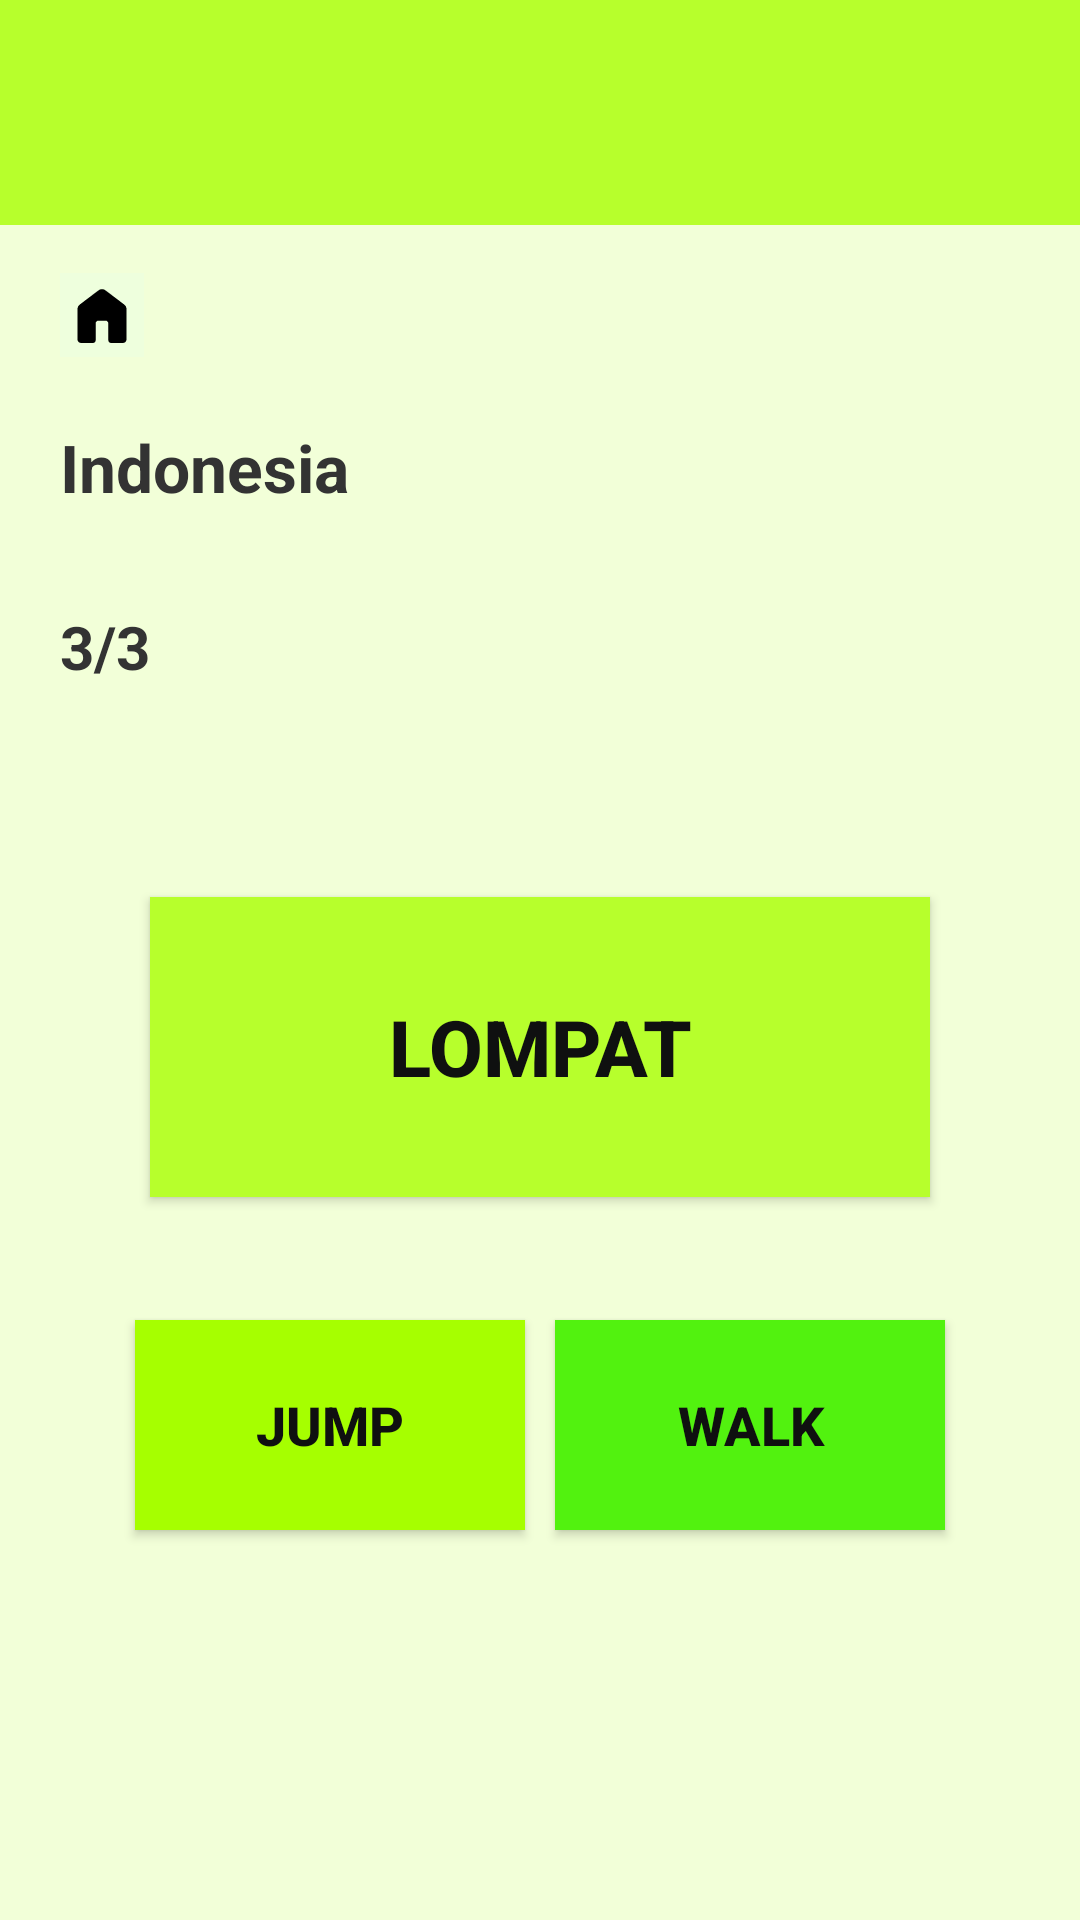

Locate icon controls on the screen. Image size 1080w x 1920h, boxes as box(x1, y1, x2, y2).
Home: box(77, 289, 127, 343)
